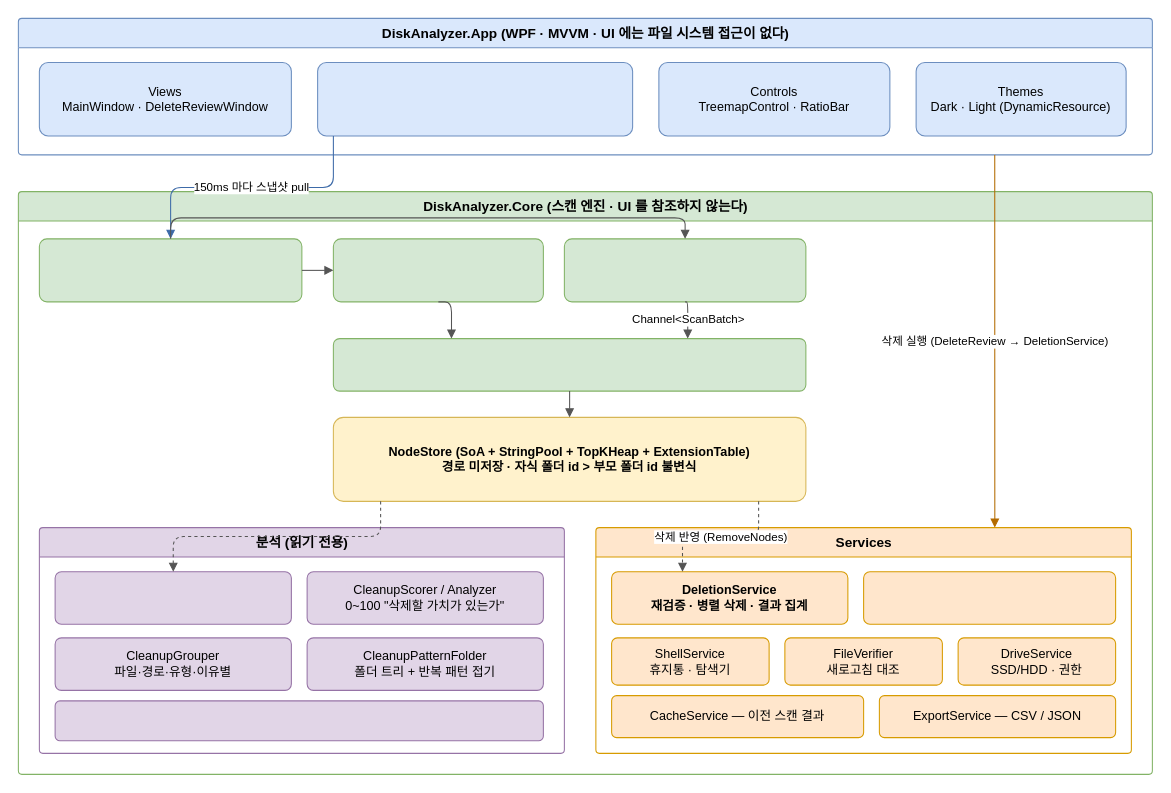
This 1171x793 diagram has some shape labels left out. The centre of each missing label's shape, as x and y in pixels:
Aggregator (단일 스레드) NodeStore 의 유일한 writer · lock 없음: [569,364]
CompatibilityScanner FindFirstFileEx + 워커 풀: [684,270]
DeveloperAnalyzer — 빌드 산출물 · .git · 로그 연령: [298,720]
FastDeleter 영구 삭제 전용 Win32 병렬 삭제기: [989,597]
FastScanner NTFS $MFT 직접 파싱: [437,270]
ProtectionEvaluator P0~P3 "삭제해도 되는가": [172,597]
ScanController 세션 관리 · 모드 선택 · fallback: [170,270]
ViewModels Main · Cleanup · DeleteReview: [475,98]
